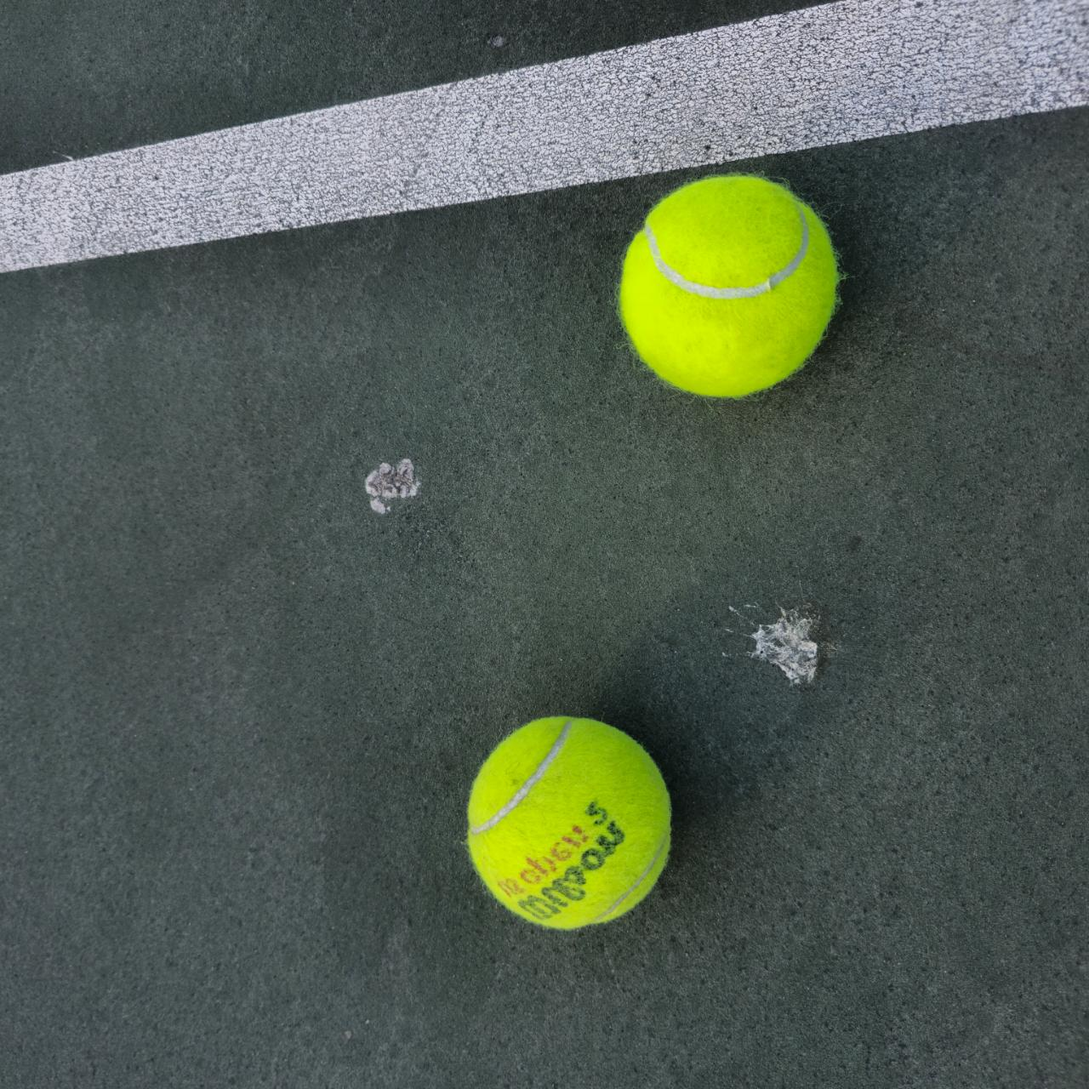tennis-ball: (616, 171, 842, 399), (465, 712, 675, 931)
